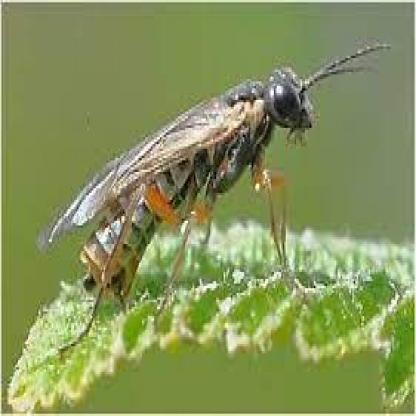sawfly: (33, 42, 391, 353)
